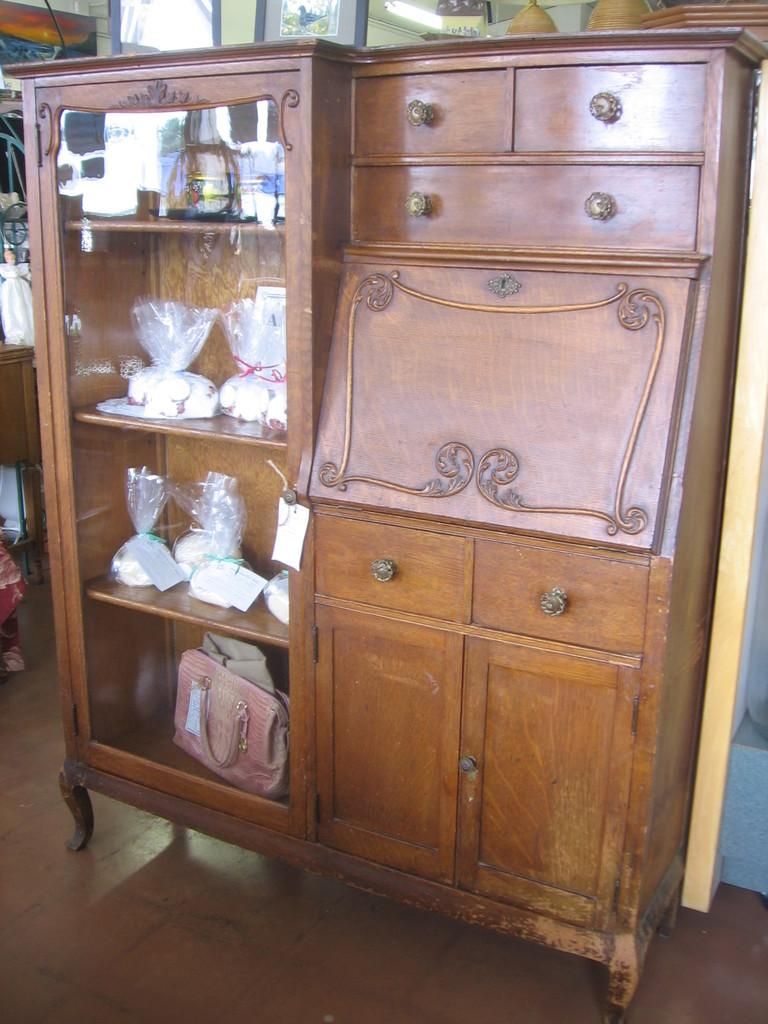cabinet_door: (41, 90, 304, 800), (465, 650, 616, 909), (318, 622, 458, 868), (362, 160, 693, 248), (476, 539, 638, 656), (517, 67, 700, 158), (321, 515, 475, 610), (354, 78, 509, 152)
handle: (271, 454, 297, 508), (542, 580, 568, 623), (410, 91, 434, 134), (374, 543, 397, 586), (586, 185, 610, 222), (406, 184, 428, 224), (595, 91, 615, 124), (461, 755, 478, 782)
